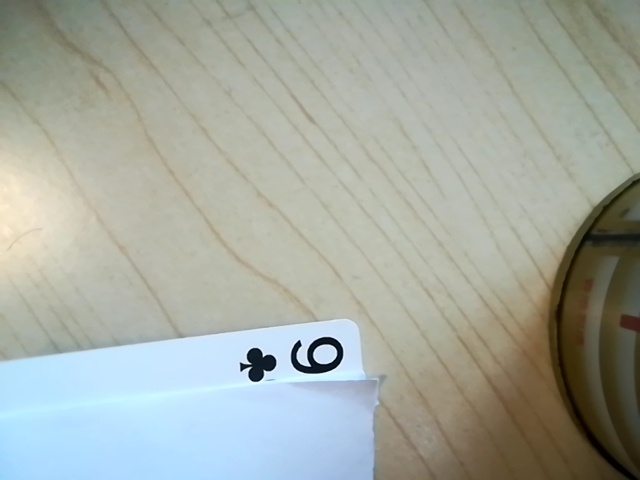mh 9: (235, 329, 362, 391)
